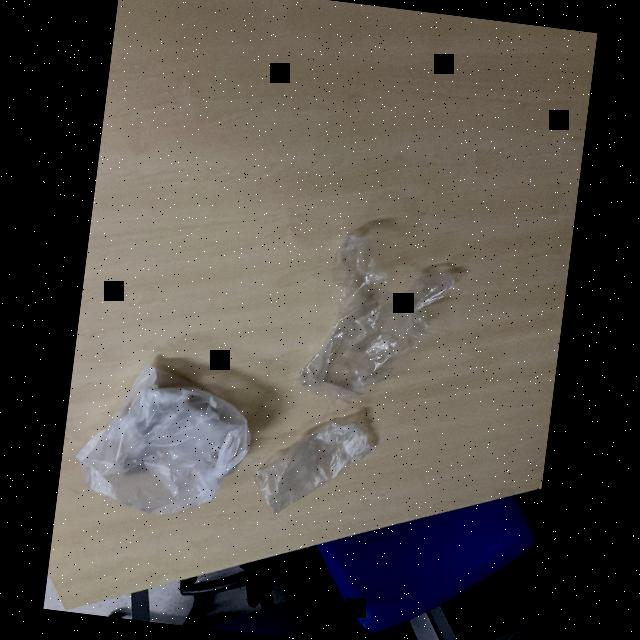plastic_bag: (292, 217, 474, 410), (70, 349, 259, 527), (256, 408, 380, 522)
